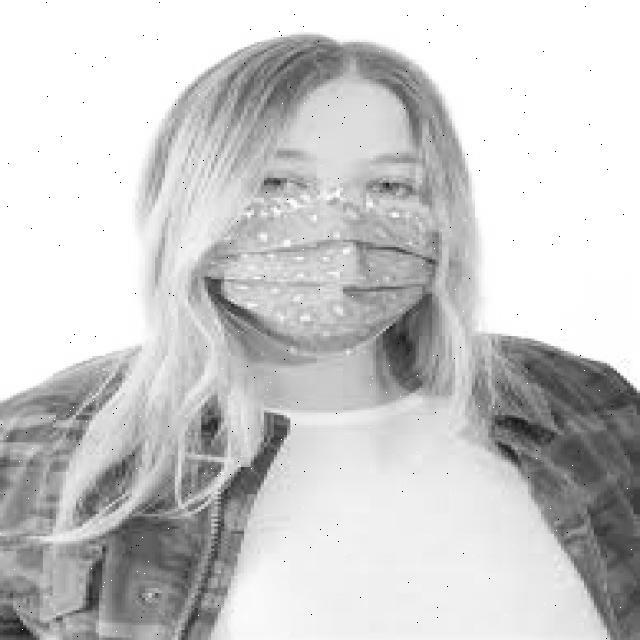fake: (178, 145, 461, 406)
real: (206, 85, 425, 370)
